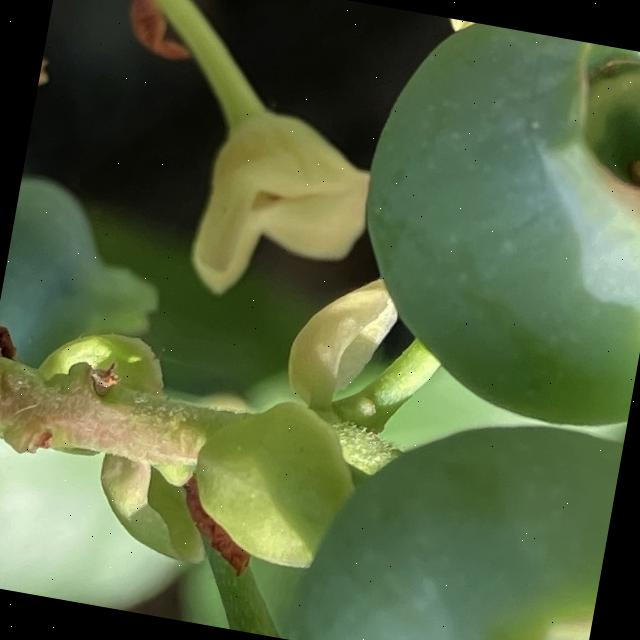Blueberries: (331, 8, 640, 435), (284, 382, 625, 640)
